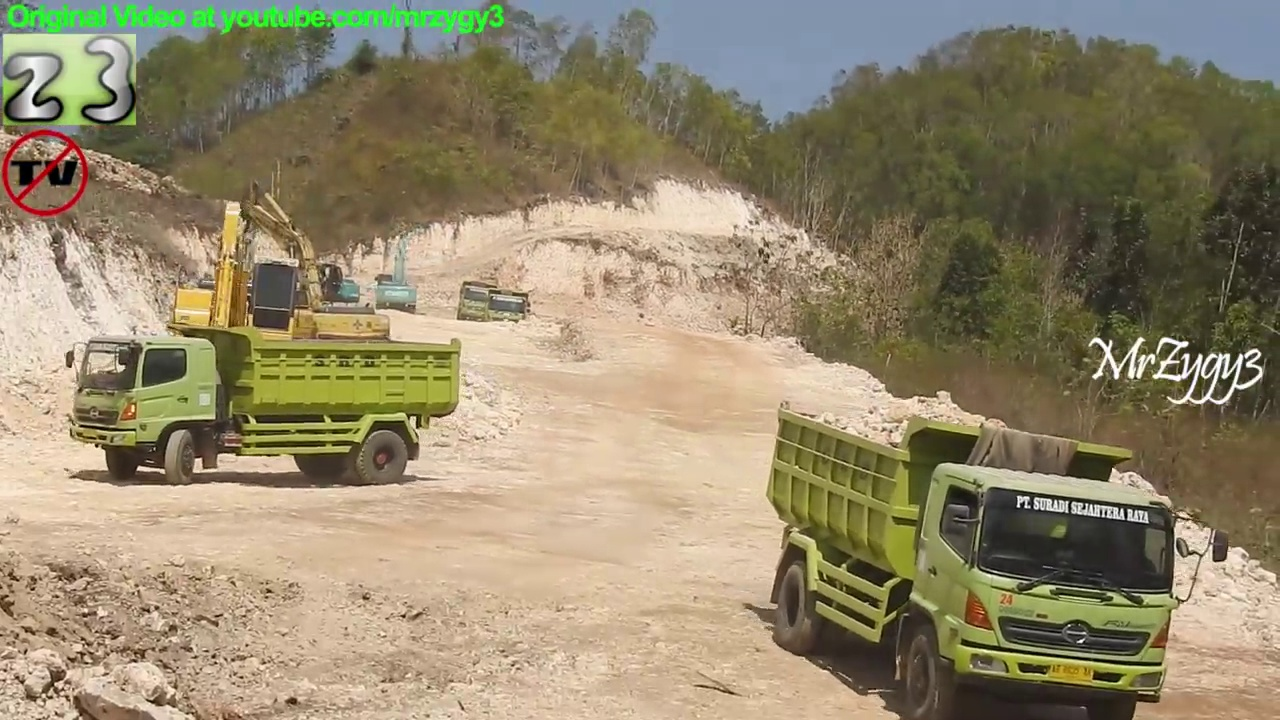excavator: (133, 199, 327, 419), (207, 179, 396, 378), (248, 216, 364, 331), (371, 230, 424, 319)
truck: (761, 396, 1236, 720), (62, 324, 464, 490), (454, 276, 502, 326), (485, 283, 531, 333)
